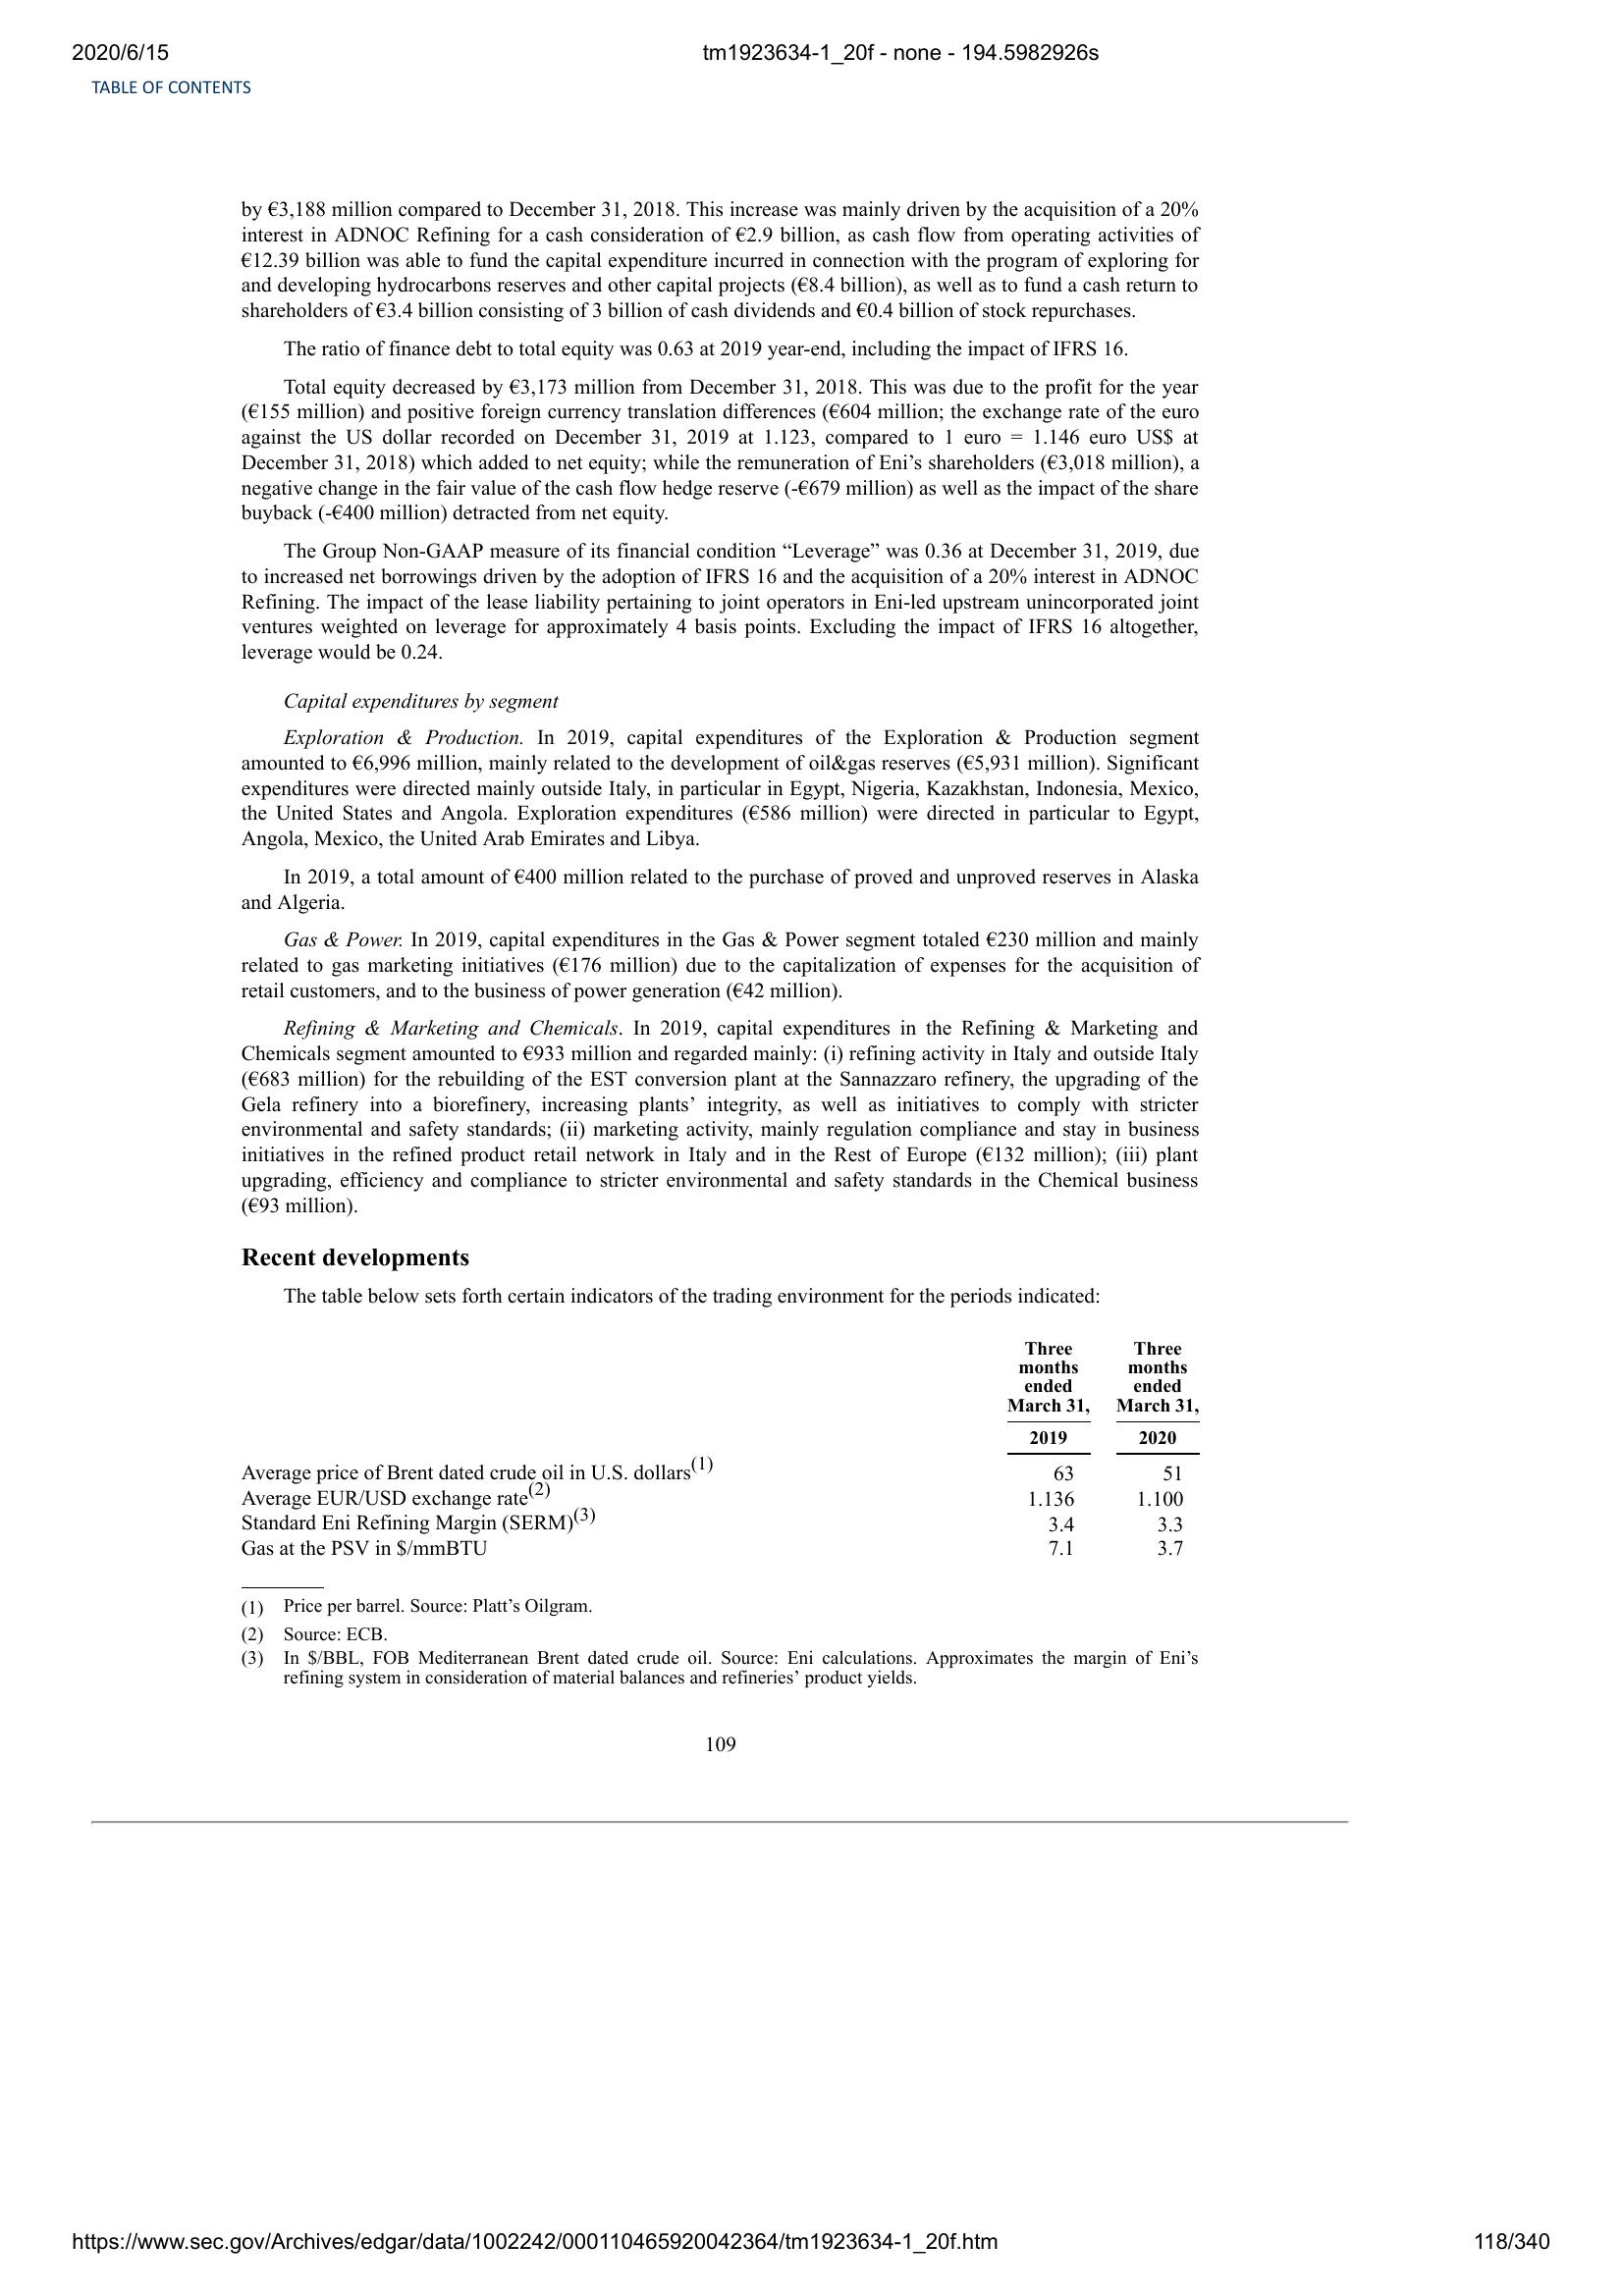table: (221, 1327, 1200, 1578)
